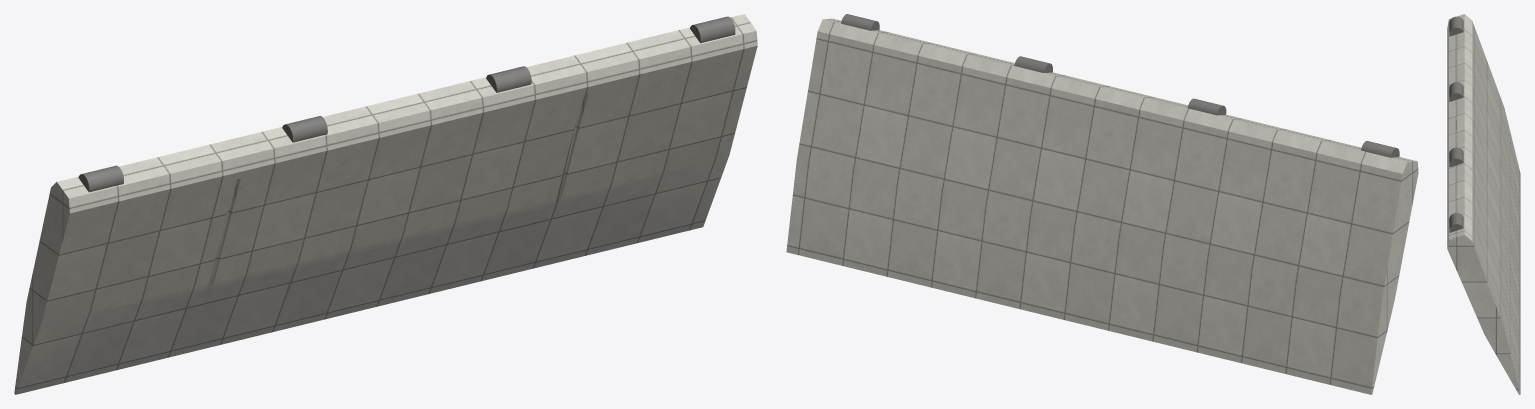
Rendered from ax_aero_23_cse_elevon_m_defl_pos.glb.
3 views of the same model, side by side, from view 1: azimuth 30°, elevation 25°; view 2: azimuth 150°, elevation 25°; view 3: azimuth 270°, elevation 25° (orthographic). The views are drawn at different scales.
Visible parts, largest first — view 1: surface, hinge_fittings; view 2: surface, hinge_fittings; view 3: surface, hinge_fittings.
Boxes of the visible parts, bbox=[...] form: surface: bbox=[14, 14, 757, 394]; hinge_fittings: bbox=[78, 16, 735, 192]; surface: bbox=[786, 18, 1418, 394]; hinge_fittings: bbox=[841, 14, 1399, 157]; surface: bbox=[1447, 14, 1520, 394]; hinge_fittings: bbox=[1449, 16, 1463, 232].
Size of the model in its own units: 1.98 by 0.6868 by 0.2772.
2 materials, 2 textured.
